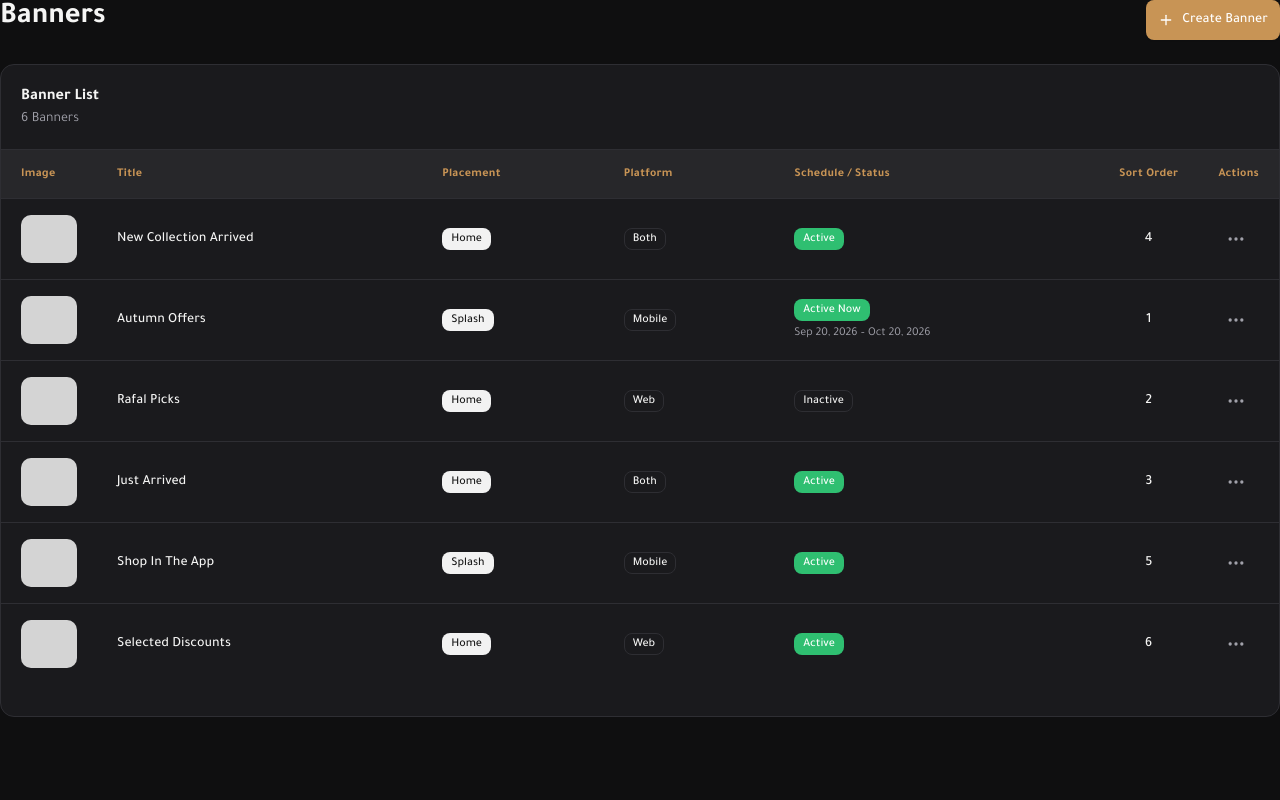
Test: BannersPage › requires a replacement when the existing image is removed
Click the button named "Actions for New collection arrived" at (1236, 238), box left=1218, top=220, right=1254, bottom=256
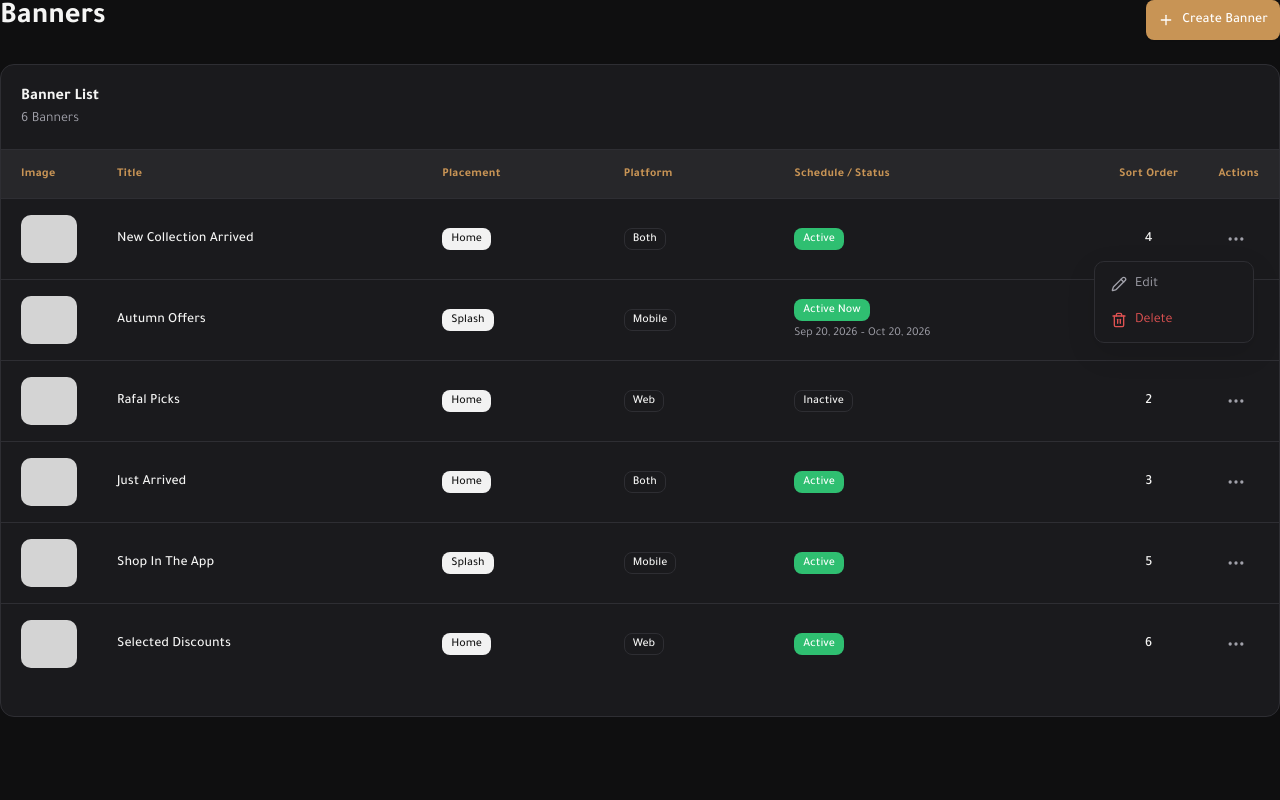
Click the menu item "Edit" at (1135, 284), box left=1111, top=276, right=1158, bottom=292
(page scrolled)
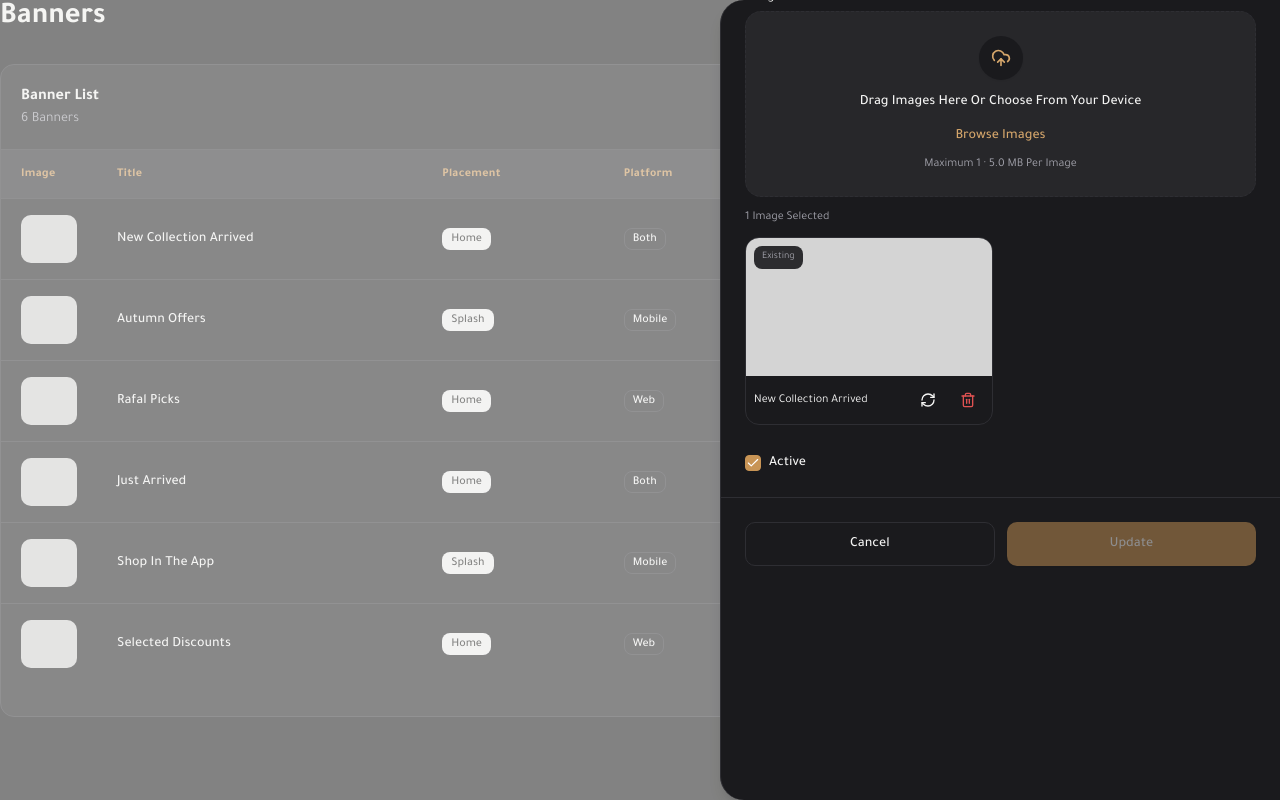
Click the button named "Remove New collection arrived" at (968, 400), box left=952, top=384, right=984, bottom=416
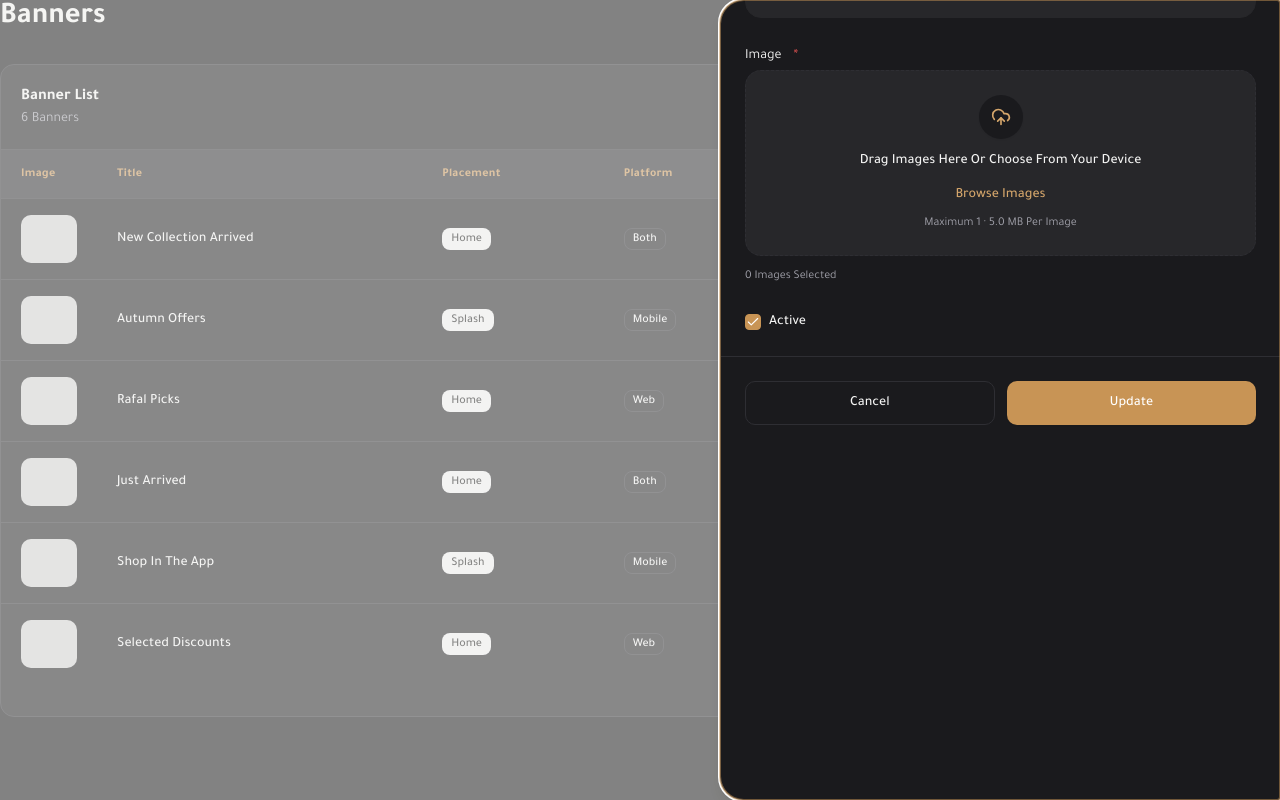
Click the button "Update" at (1131, 403), box left=1006, top=381, right=1256, bottom=425
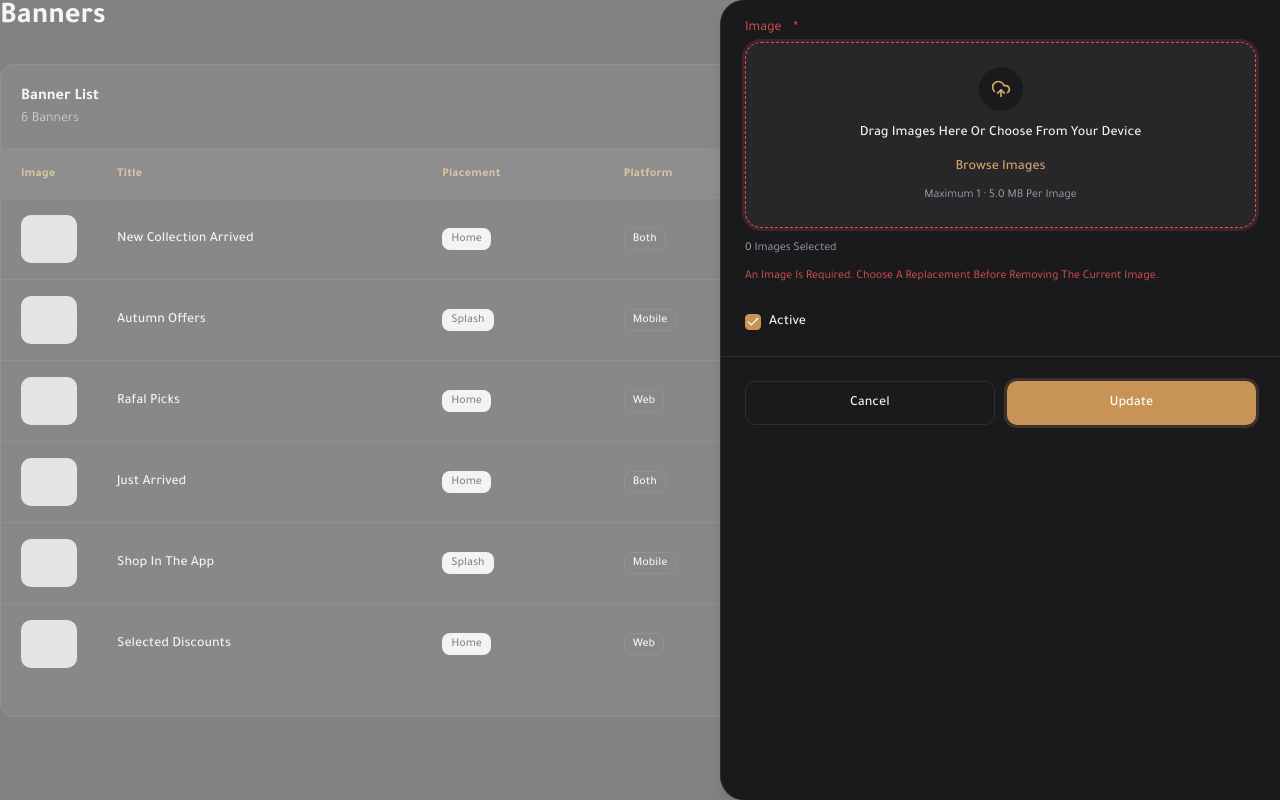
Expected: the text "An image is required. Choose a replacement before removing the current image." is shown, left=745, top=270, right=1159, bottom=282
